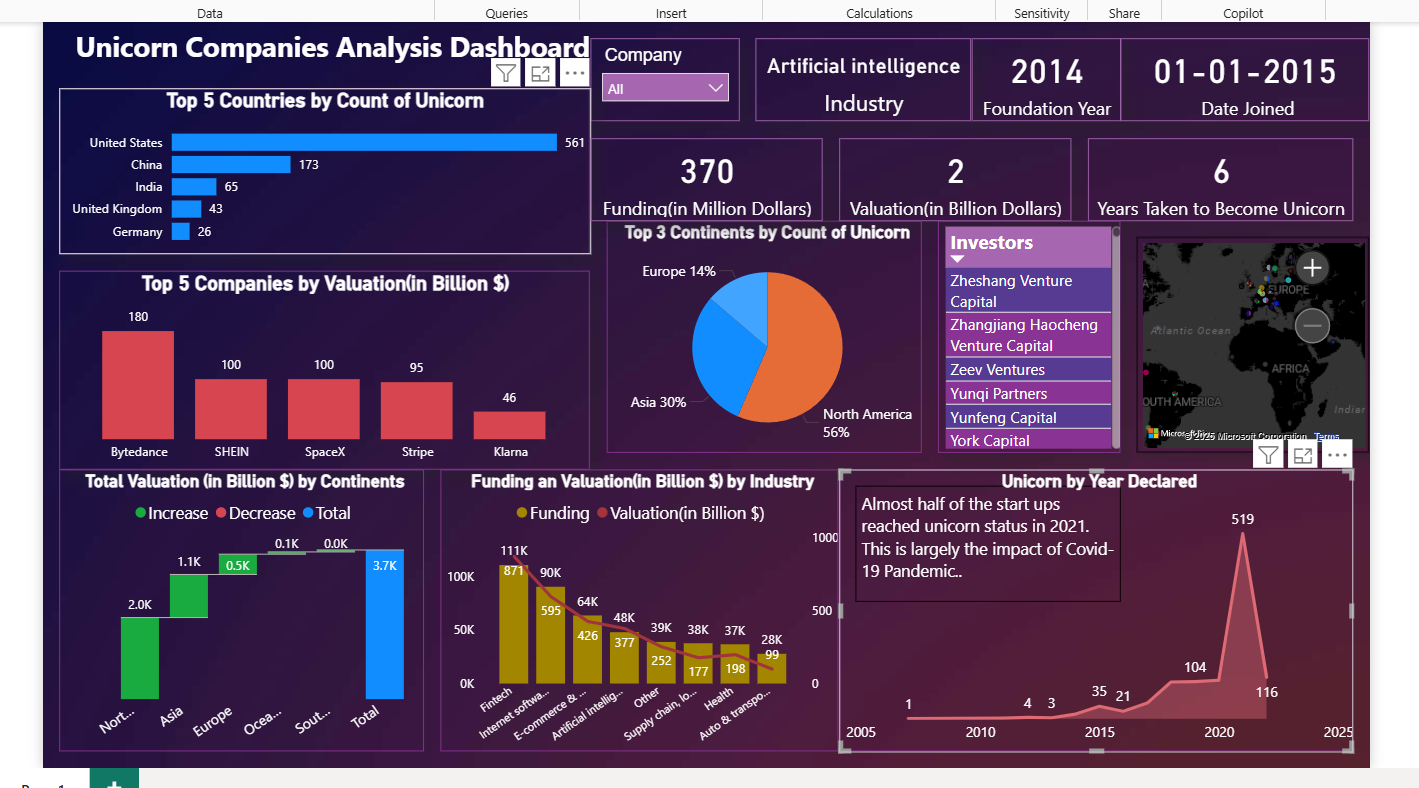

The page's visual inventory and layout, read from the dashboard file:
{"tool":"powerbi","page":{"name":"Page 1","canvas":[1280,720],"ordinal":0},"visuals":[{"type":"textbox","box":[16,0,528,48],"z":0},{"type":"slicer","fields":{"Values":["Unicorn_Companies.Company"]},"box":[528,16,144,80],"z":1000},{"type":"card","fields":{"Values":["Min(Unicorn_Companies.Industry)"]},"box":[688,16,208,80],"z":2000},{"type":"card","fields":{"Values":["Median(Unicorn_Companies.Year Taken)"]},"box":[1008,112,256,80],"z":3000},{"type":"card","fields":{"Values":["Median(Unicorn_Companies.Year Founded)"]},"box":[896,16,144,80],"z":4000},{"type":"card","fields":{"Values":["Median(Unicorn_Companies.Valuation(in Billion Dollar))"]},"box":[768,112,224,80],"z":5000},{"type":"card","fields":{"Values":["Min(Unicorn_Companies.Date Joined)"]},"box":[1040,16,240,80],"z":6000},{"type":"barChart","title":"Top 5 Countries by Count of Unicorn","fields":{"Y":["CountNonNull(Unicorn_Companies.Company)"],"Category":["Unicorn_Companies.Country"]},"box":[16,64,512,160],"z":7000},{"type":"pieChart","title":"Top 3 Continents by Count of Unicorn","fields":{"Category":["Unicorn_Companies.Continent"],"Y":["CountNonNull(Unicorn_Companies.Company)"]},"box":[544,192,304,224],"z":8000},{"type":"card","fields":{"Values":["Median(Funding.Funding)"]},"box":[528,112,224,80],"z":9000},{"type":"columnChart","title":"Top 5 Companies by Valuation(in Billion $)","fields":{"Category":["Unicorn_Companies.Company"],"Y":["Sum(Unicorn_Companies.Valuation(in Billion Dollar))"]},"box":[16,240,512,192],"z":10000},{"type":"tableEx","title":"Investors","fields":{"Values":["Investors.Investors"]},"box":[864,192,176,224],"z":11000},{"type":"waterfallChart","title":"Total Valuation (in Billion $) by Continents","fields":{"Y":["Sum(Unicorn_Companies.Valuation(in Billion Dollar))"],"Category":["Unicorn_Companies.Continent"]},"box":[16,432,352,272],"z":12000},{"type":"map","fields":{"Category":["Unicorn_Companies.Country"],"Series":["Unicorn_Companies.City"]},"box":[1056,208,224,208],"z":13000},{"type":"areaChart","title":" Unicorn by Year Declared","fields":{"Category":["Unicorn_Companies.Year Joined"],"Y":["CountNonNull(Unicorn_Companies.Company)"]},"box":[768,432,496,272],"z":14000},{"type":"lineClusteredColumnComboChart","title":"Funding an Valuation(in Billion $) by Industry","fields":{"Category":["Unicorn_Companies.Industry"],"Y":["Sum(Funding.Funding)"],"Y2":["Sum(Unicorn_Companies.Valuation(in Billion Dollar))"]},"box":[384,432,384,272],"z":15000},{"type":"textbox","box":[784,448,256,112],"z":16000}]}

Visuals, with their boxes in screenshot pixels (x1, y1, x2, y2):
textbox: locate(39, 33, 588, 83)
slicer - Unicorn_Companies.Company: locate(571, 50, 721, 133)
card - Min(Unicorn_Companies.Industry): locate(738, 50, 954, 133)
card - Median(Unicorn_Companies.Year Taken): locate(1070, 150, 1337, 233)
card - Median(Unicorn_Companies.Year Founded): locate(954, 50, 1104, 133)
card - Median(Unicorn_Companies.Valuation(in Billion Dollar)): locate(821, 150, 1054, 233)
card - Min(Unicorn_Companies.Date Joined): locate(1104, 50, 1353, 133)
"Top 5 Countries by Count of Unicorn" barChart: locate(39, 100, 571, 266)
"Top 3 Continents by Count of Unicorn" pieChart: locate(588, 233, 904, 466)
card - Median(Funding.Funding): locate(571, 150, 804, 233)
"Top 5 Companies by Valuation(in Billion $)" columnChart: locate(39, 283, 571, 482)
"Investors" tableEx: locate(921, 233, 1104, 466)
"Total Valuation (in Billion $) by Continents" waterfallChart: locate(39, 482, 405, 765)
map - Unicorn_Companies.Country x Unicorn_Companies.City: locate(1120, 250, 1353, 466)
" Unicorn by Year Declared" areaChart: locate(821, 482, 1337, 765)
"Funding an Valuation(in Billion $) by Industry" lineClusteredColumnComboChart: locate(421, 482, 821, 765)
textbox: locate(837, 499, 1104, 616)
